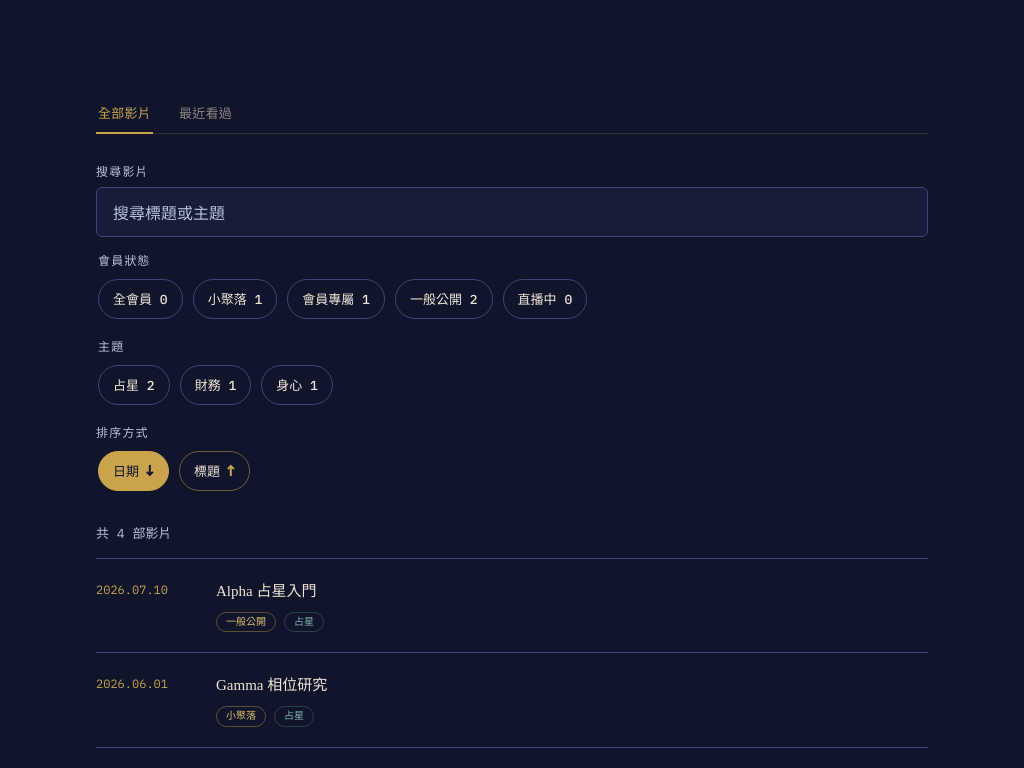
Scenario: App › clicking an active topic filter clears it
(page scrolled)
Click the button "財務 1" at (215, 385), box [180,365,251,405]
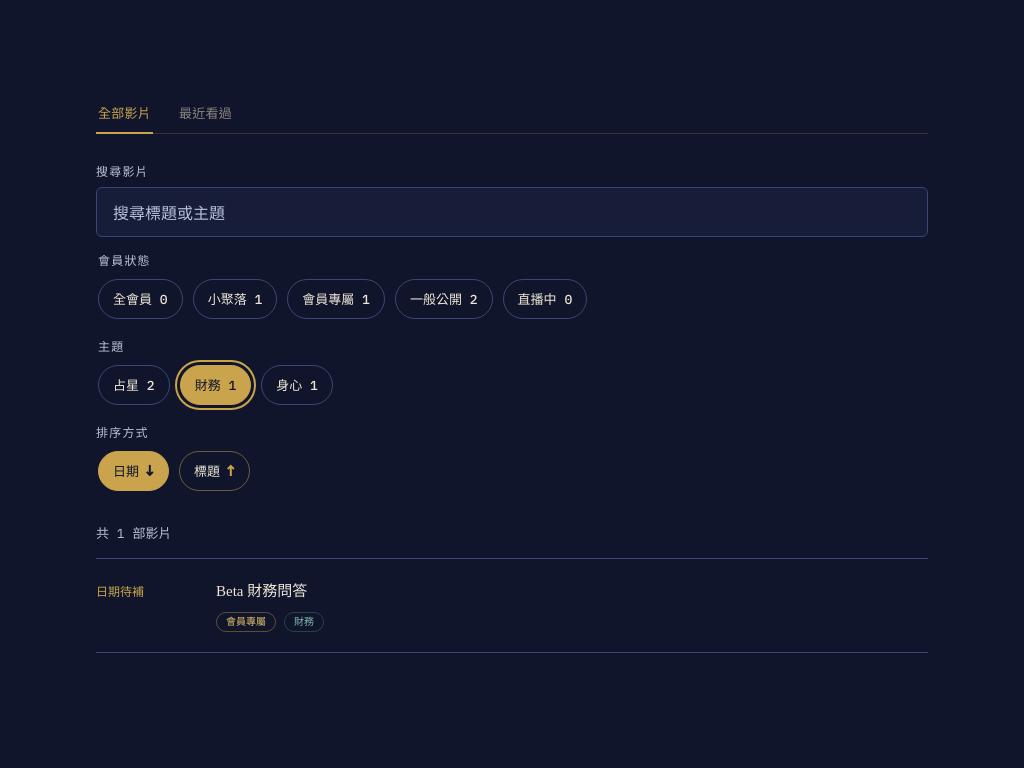
Expected: the text "共 1 部影片" is shown, [96,523,928,559]
Click the button "財務 1" at (215, 385), box [180,365,251,405]
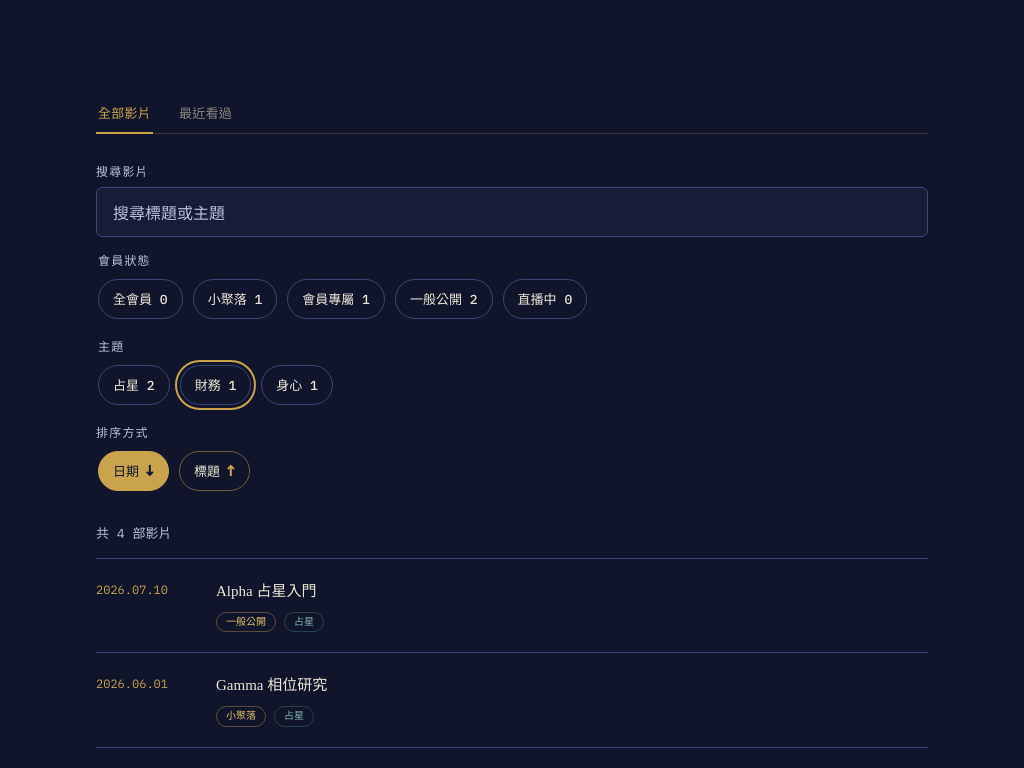
Expected: the text "共 4 部影片" is shown, [96,523,928,559]
